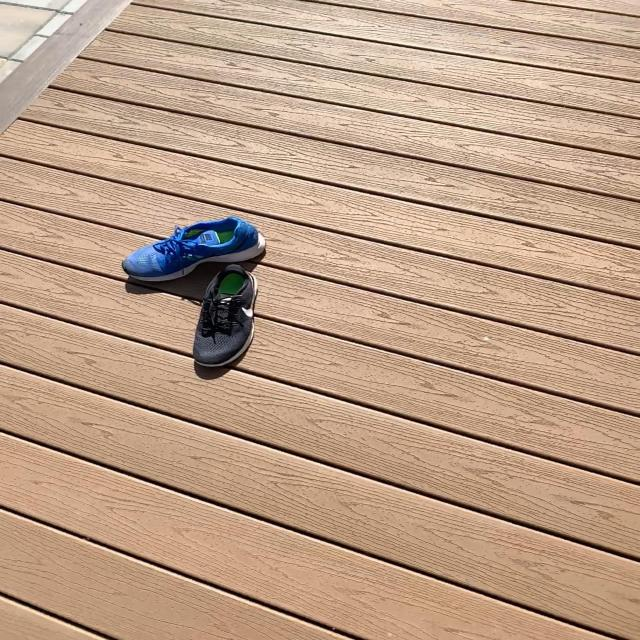shoe: (120, 218, 269, 286), (194, 271, 257, 369)
